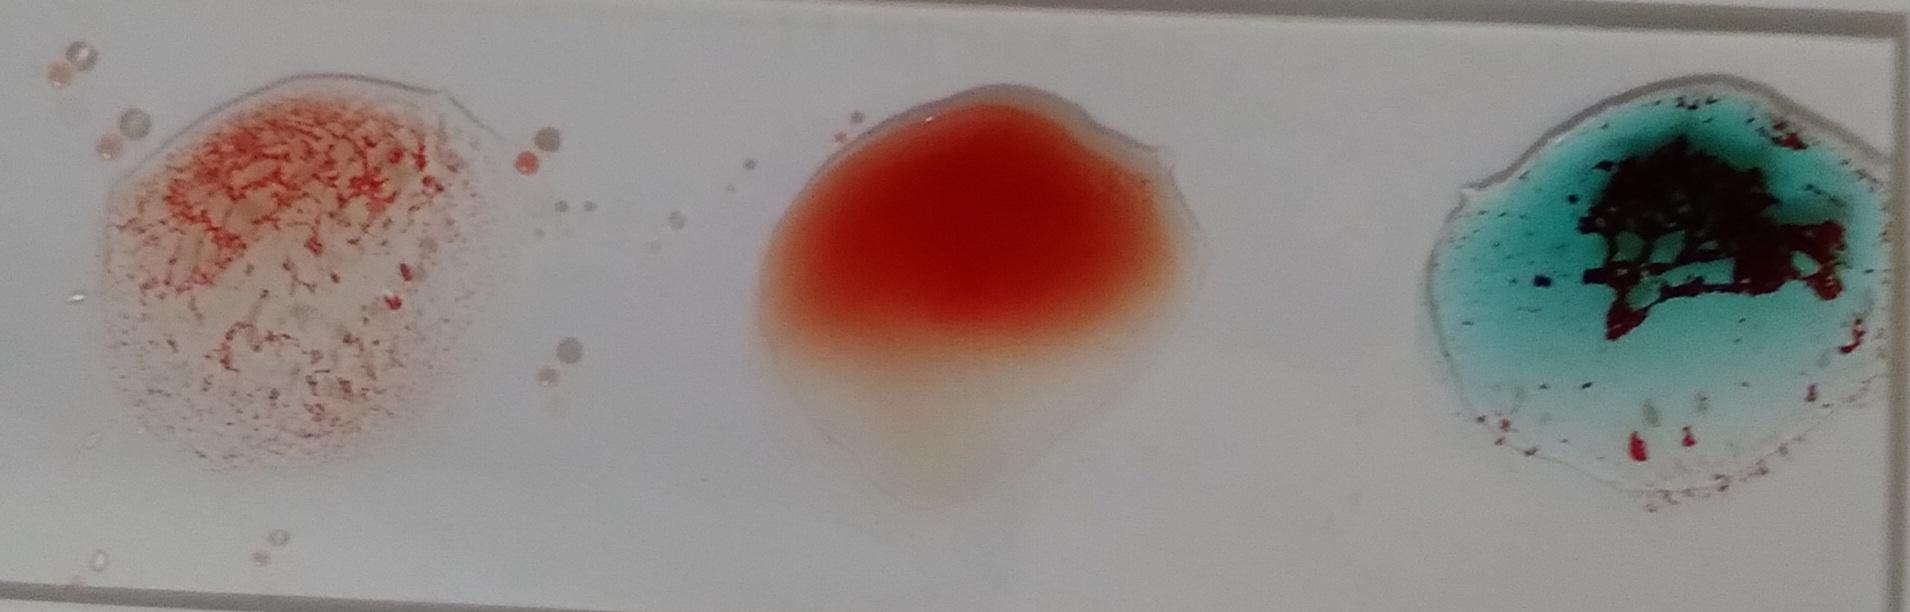A: (1426, 65, 1884, 489)
D: (112, 84, 477, 475)
